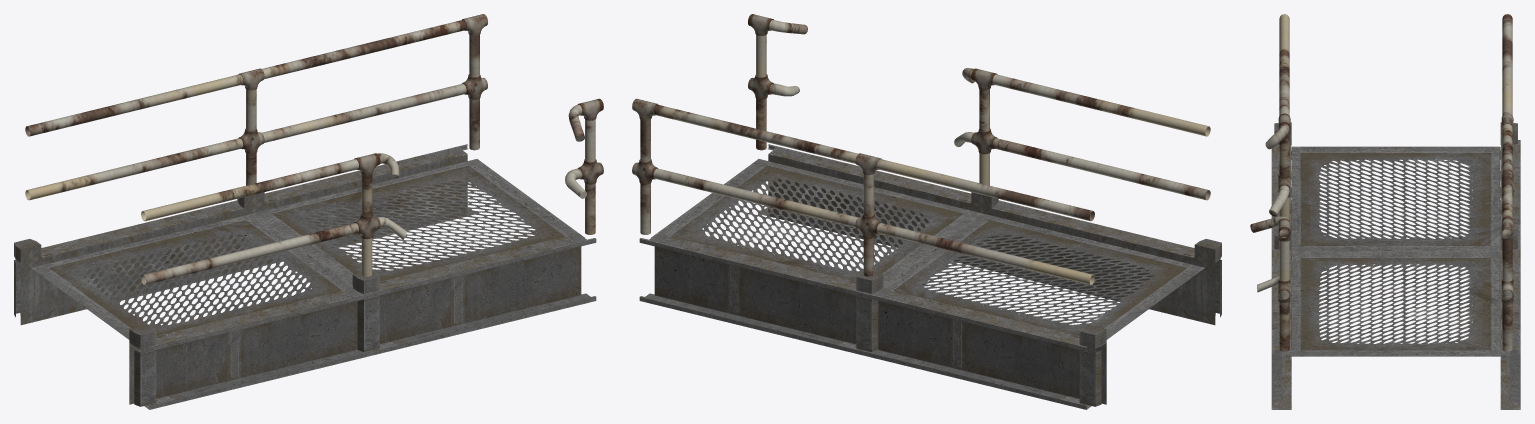
The model's file is upper_platform_broken_opposite.fbx.
The picture shows the model from 3 angles, left to right: view 1: azimuth 30°, elevation 25°; view 2: azimuth 150°, elevation 25°; view 3: azimuth 270°, elevation 25°; orthographic projection. The views are drawn at different scales.
Parts seen in each view (by area): view 1: upper_platform_broken_opposite; view 2: upper_platform_broken_opposite; view 3: upper_platform_broken_opposite.
Boxes of the visible parts, x1,y1,x2,y2 form: upper_platform_broken_opposite: (14, 14, 603, 409); upper_platform_broken_opposite: (632, 14, 1221, 409); upper_platform_broken_opposite: (1250, 14, 1520, 409).
Size of the model in its own units: 419 by 166 by 217.
